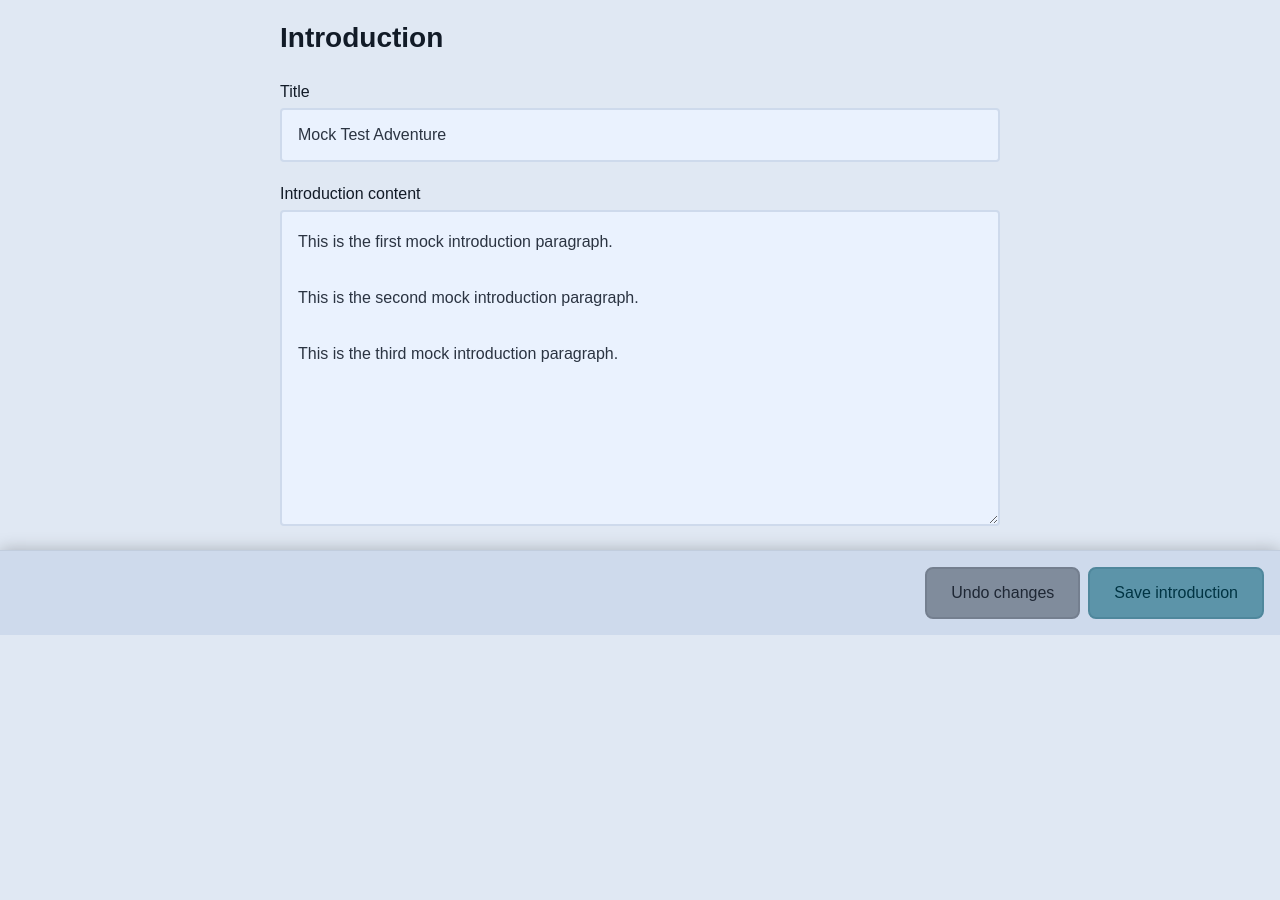
Test: IntroductionEditView Component › Integration with useIntroductionEdit hook › displays validation errors from hook
Clear the field with test id "introduction-title-input" at (640, 135), box [280,108,1000,162]
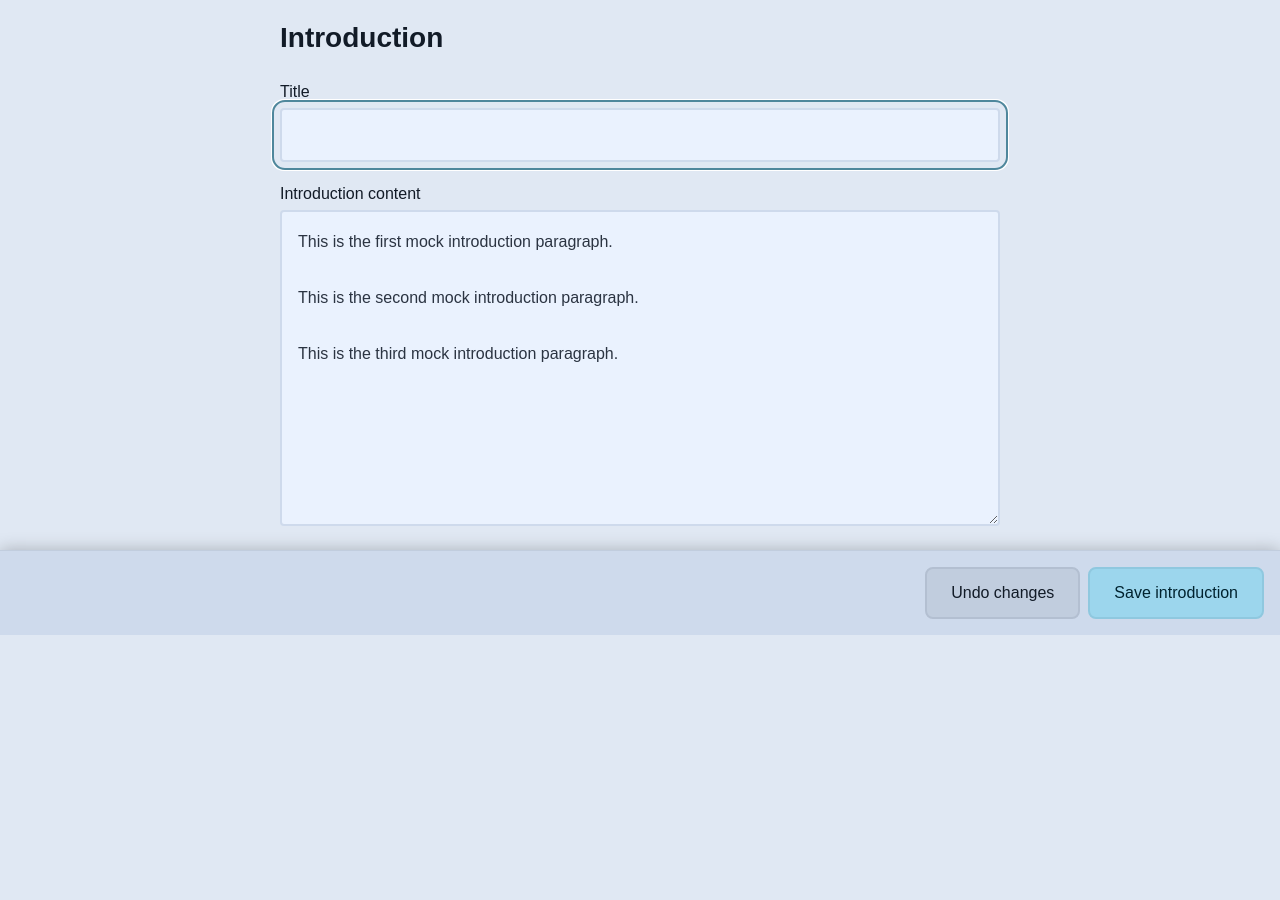
Clear the text box with test id "introduction-text-input" at (640, 368), box [280,210,1000,526]
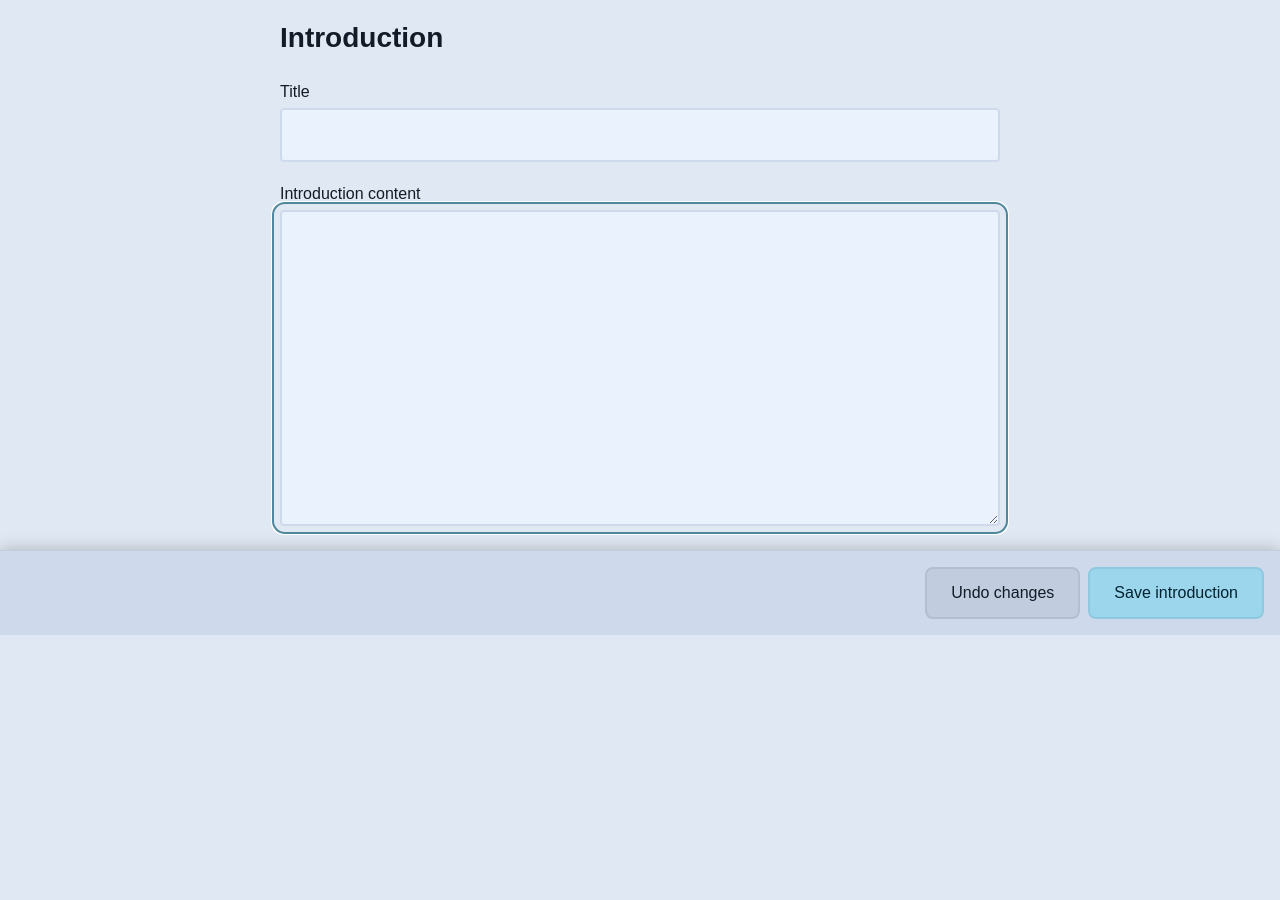
Click the button "Save introduction".
click(1176, 593)  # box [1088,567,1264,619]
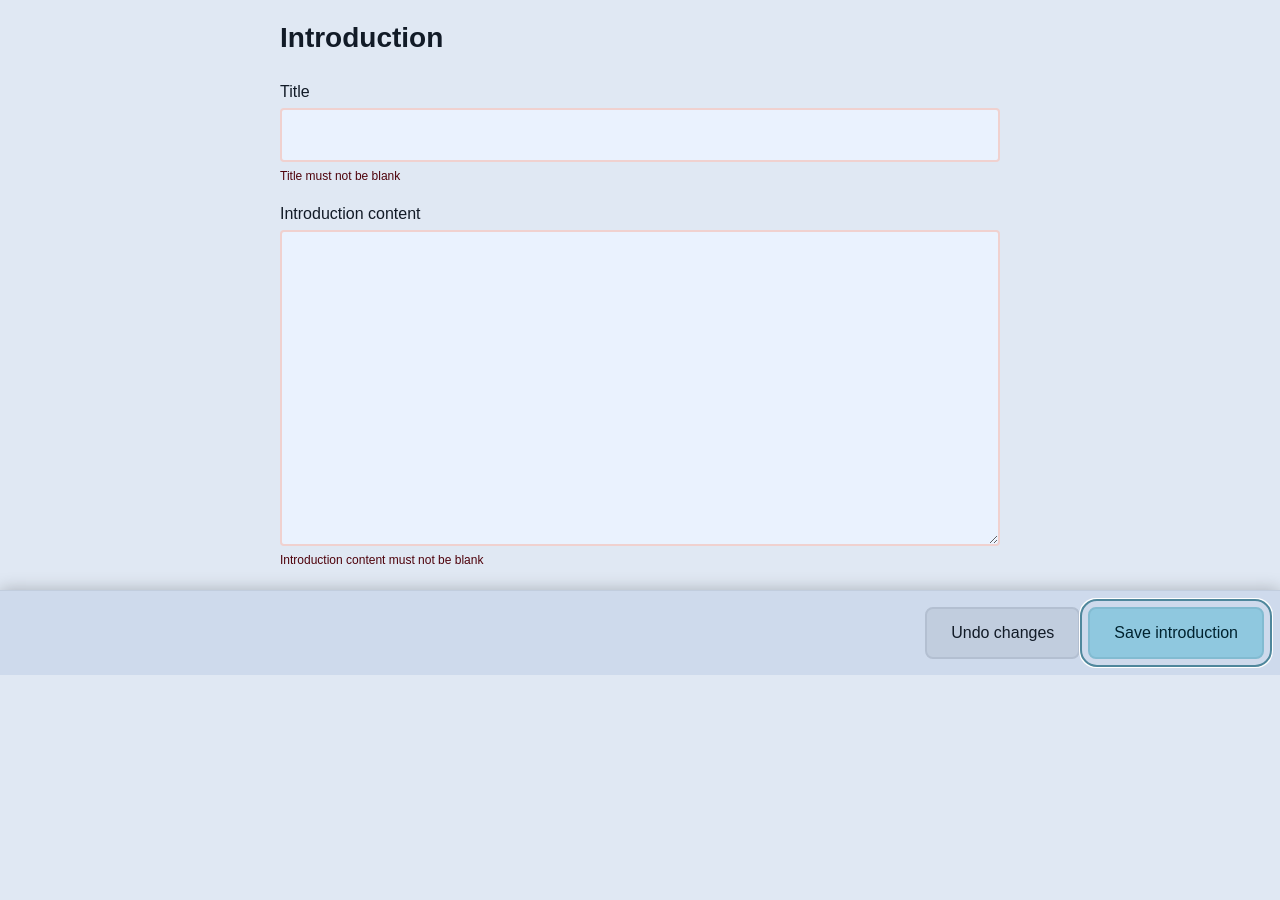
Expected: the text "Title must not be blank" is shown, [280,169,400,183]
Expected: the text "Introduction content must not be blank" is shown, [280,553,484,567]
